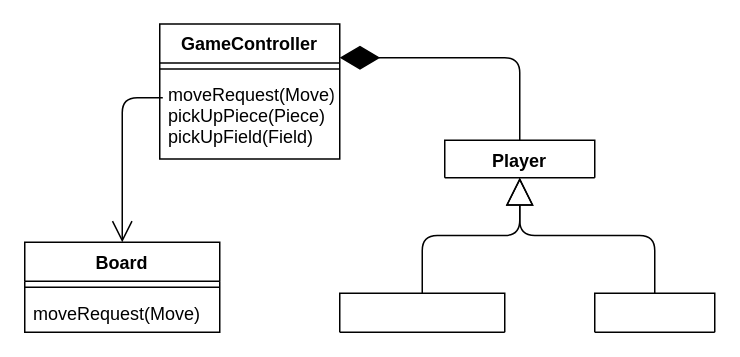
This 740x357 diagram has some shape labels left out. The centre of each missing label's shape, as x and y in pixels:
AIPlayer: the point at 654,312
HumanPlayer: the point at 421,312
